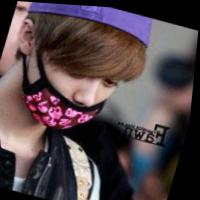WRONG: (19, 36, 126, 142)
